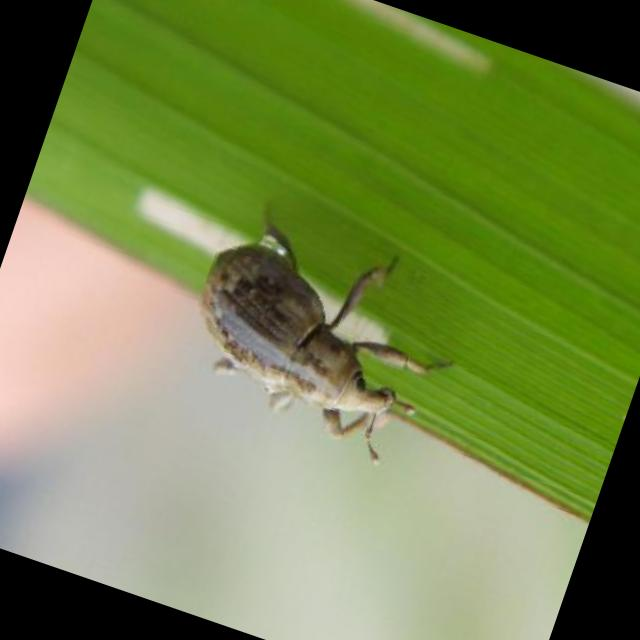rice-bug: (142, 180, 477, 479)
